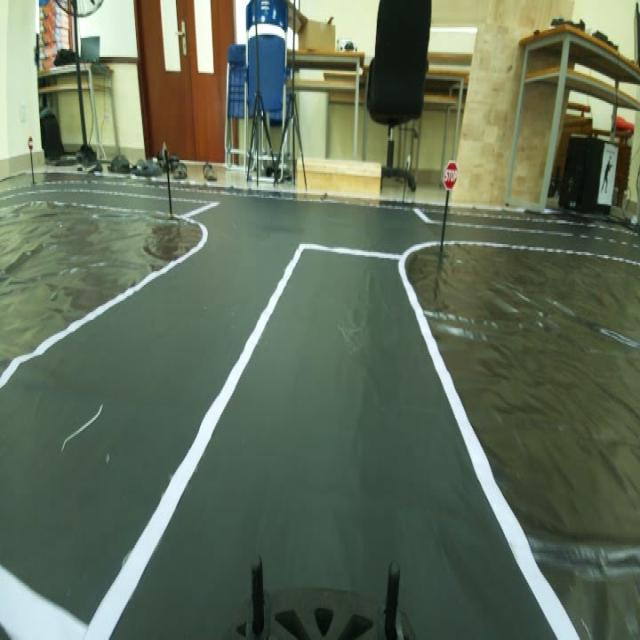stop: (440, 156, 460, 193)
